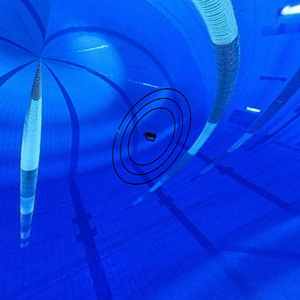circle: (108, 77, 200, 195)
submarine: (141, 127, 158, 148)
